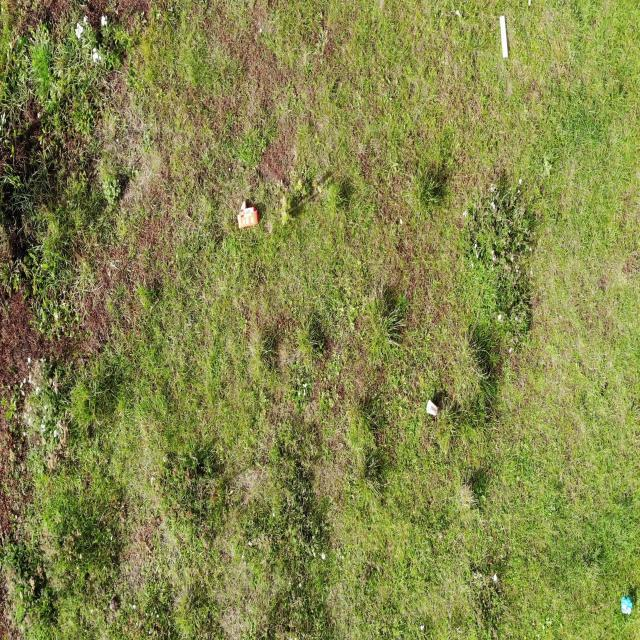rubbish: (238, 199, 260, 230), (498, 16, 509, 60), (425, 398, 440, 420), (621, 598, 633, 618)
